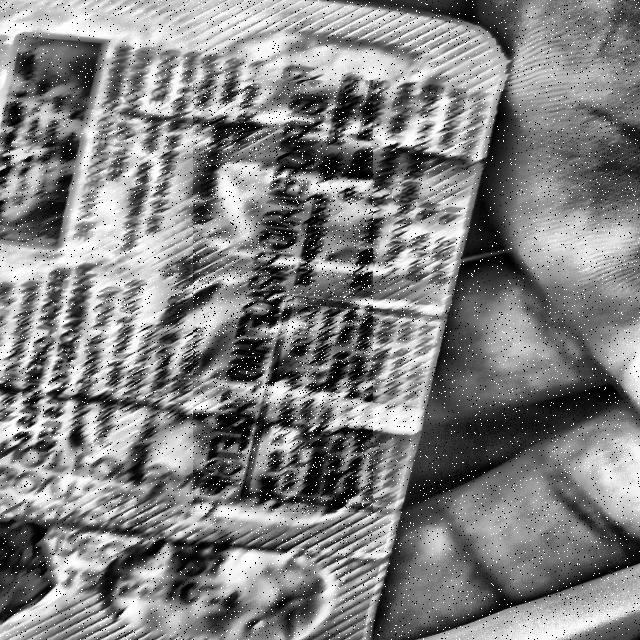IBUPROFEN AND PARACETAMOL TABLETS: (193, 81, 372, 511)
